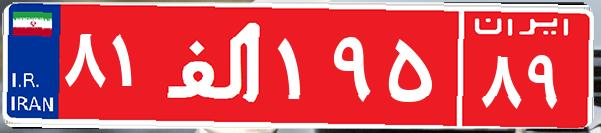1: (273, 28, 330, 110), (110, 28, 158, 105)
5: (385, 28, 445, 110)
8: (57, 26, 110, 107), (475, 38, 525, 113)
9: (330, 28, 385, 110), (525, 38, 570, 115)
الف: (158, 15, 273, 115)
